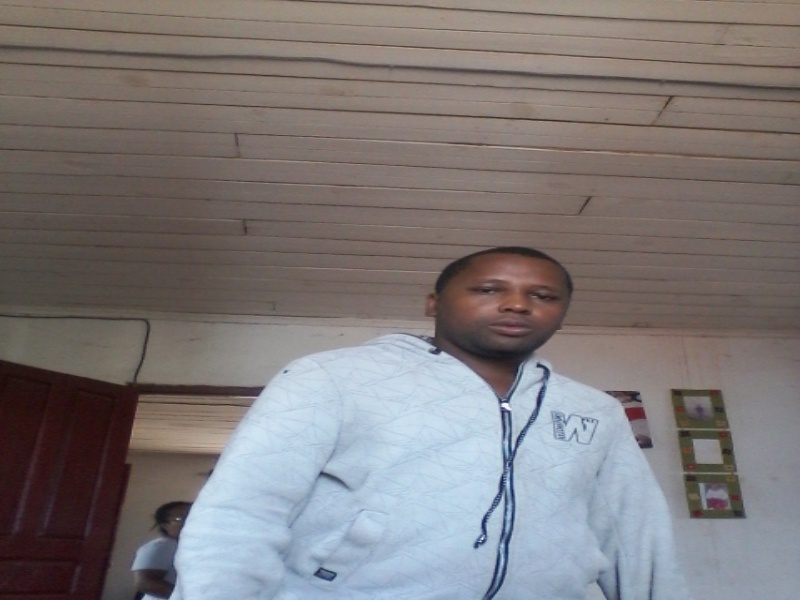TsisyArotava: (433, 239, 573, 358)
